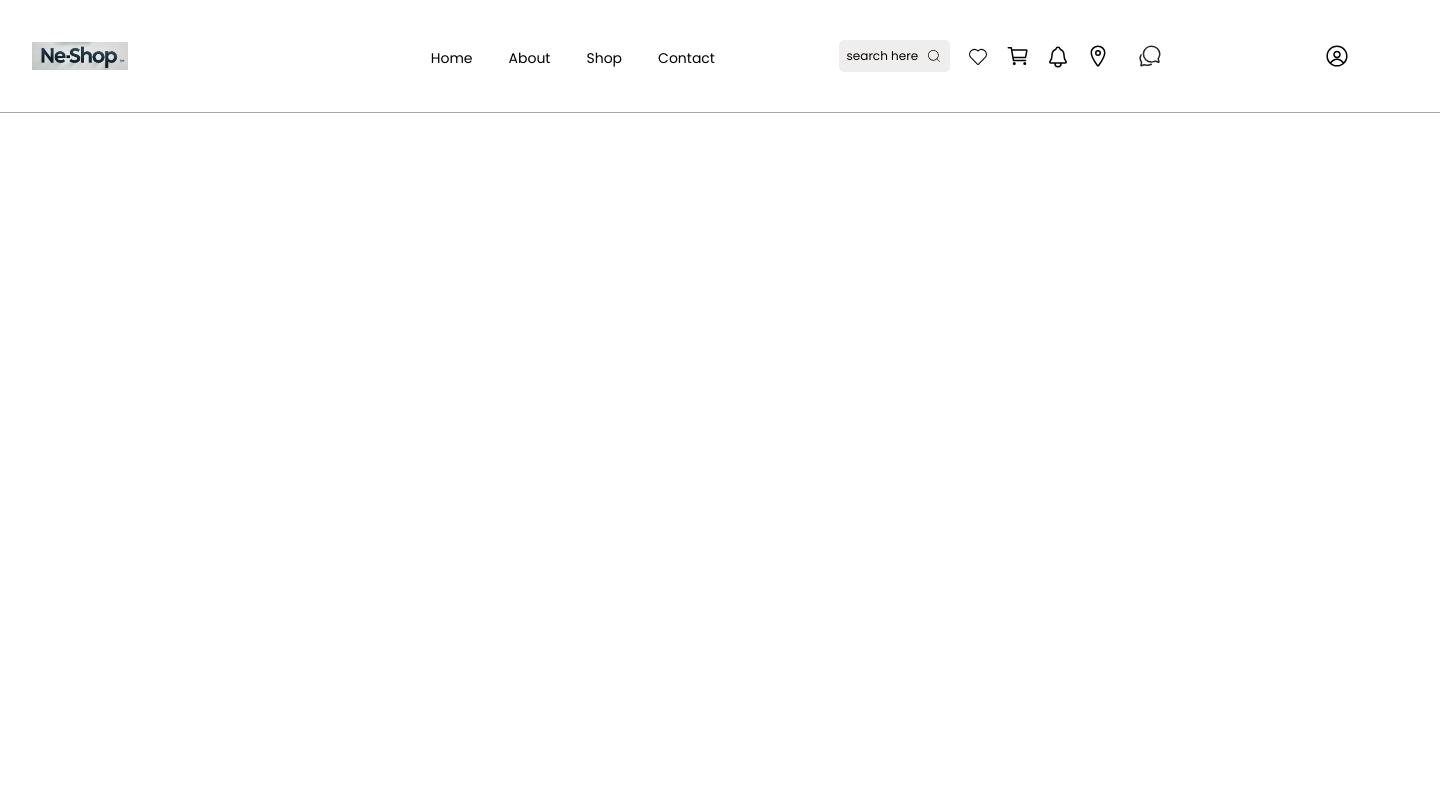
Test: Navbar Component › opens chat when chat button is clicked
What coordinates should you click on to do the following:
click the button with test id "chat-button"
I would click on:
 (1150, 56)
Its box is [1126,32,1174,80].
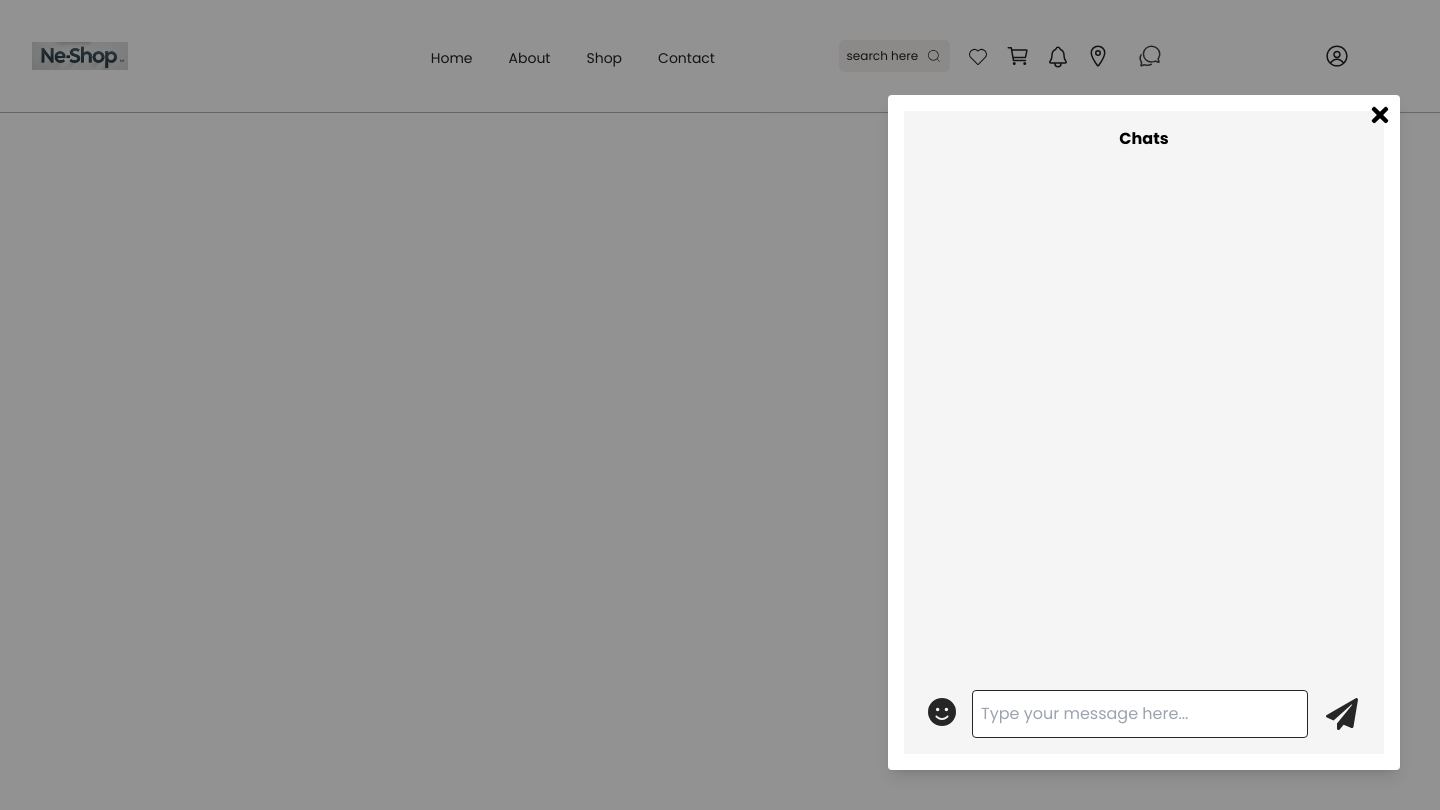
Check: the element with test id "chat-container" is shown, box [888,95,1400,770]
